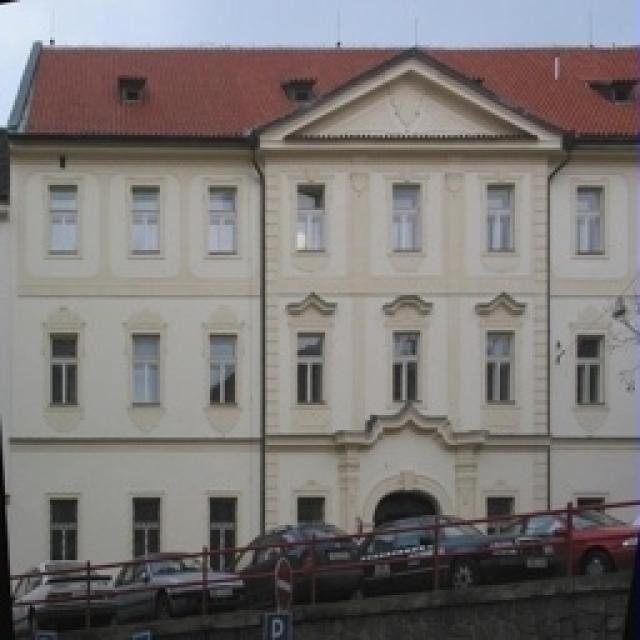building: (7, 29, 640, 612)
